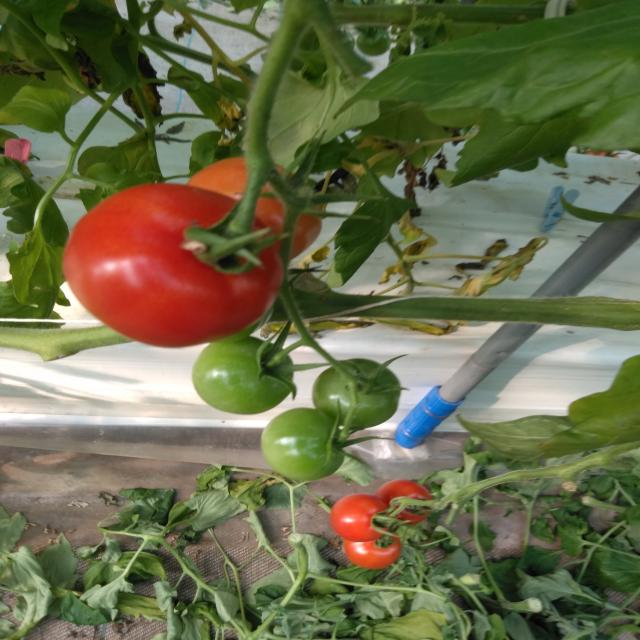c-half-riped: (185, 156, 322, 262)
c-riped: (62, 183, 286, 347), (330, 493, 395, 542), (375, 478, 432, 525), (342, 530, 400, 569)
c-unriped: (191, 336, 294, 415), (312, 358, 401, 430), (261, 407, 345, 481), (208, 303, 274, 344)
